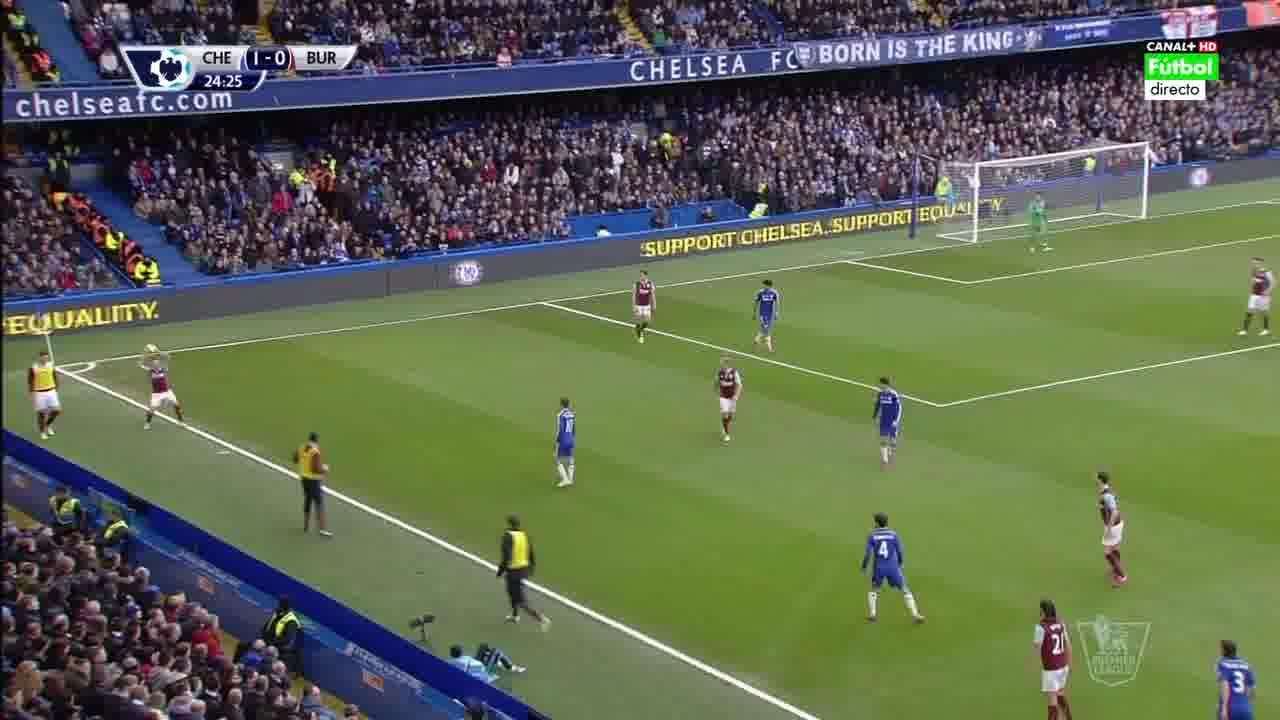football: (144, 344, 160, 355)
